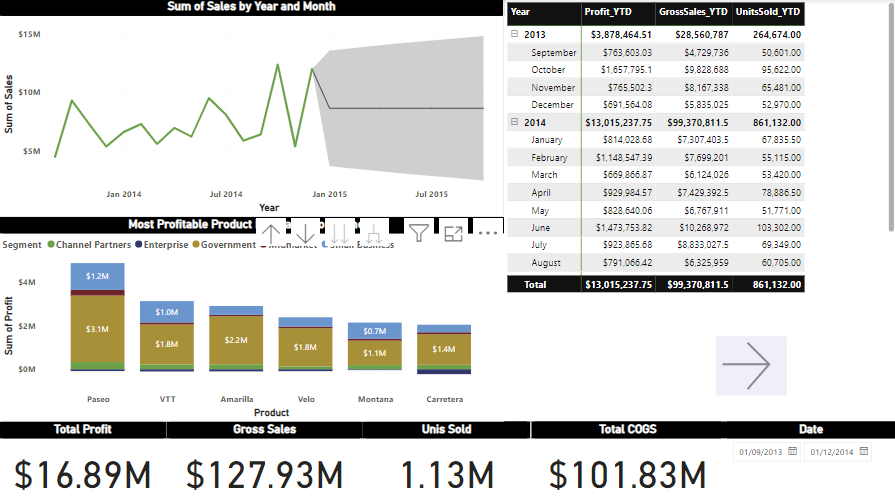

The dashboard page shown, as its layout file describes it:
{"tool":"powerbi","page":{"name":"Final Report ","canvas":[1280,720],"ordinal":0},"visuals":[{"type":"card","title":"Gross Sales","fields":{"Values":["Sum(financials.Gross Sales)"]},"box":[238.8,602.4,279.9,118],"z":0},{"type":"card","title":"Total Profit","fields":{"Values":["Sum(financials.Profit)"]},"box":[0,602.4,238.8,118],"z":1000},{"type":"card","title":"Unis Sold","fields":{"Values":["Sum(financials.Units Sold)"]},"box":[518.7,602.4,238.8,118],"z":2000},{"type":"card","title":"Total COGS","fields":{"Values":["Sum(financials.COGS)"]},"box":[757.5,602.4,274.4,118],"z":3000},{"type":"columnChart","title":"Most Profitable Product In Relation to Segment","fields":{"Category":["Products.Product "],"Y":["Sum(financials.Profit)"],"Series":["Segments.Segment"]},"box":[0,310.1,719,292.3],"z":4000},{"type":"pivotTable","fields":{"Rows":["financials.Date.Variation.Date Hierarchy.Year","financials.Date.Variation.Date Hierarchy.Month"],"Values":["financials.Profit_YTD","financials.GrossSales_YTD","financials.UnitsSold_YTD"]},"box":[719,0,561.2,422.6],"z":5000},{"type":"lineChart","fields":{"Y":["Sum(financials. Sales)"],"Category":["financials.Date.Variation.Date Hierarchy.Year","financials.Date.Variation.Date Hierarchy.Month"]},"box":[0,0,719,310.1],"z":6000},{"type":"slicer","title":"Date","fields":{"Values":["financials.Date"]},"box":[1031.9,602.4,248.4,118],"z":7000},{"type":"actionButton","box":[1020.9,480.3,100.2,83.7],"z":10000}]}

Visuals, with their boxes in screenshot pixels (x1, y1, x2, y2), scaled from the page's 1280x720 canvas onto the 895x502 screenshot:
"Gross Sales" card: x1=167, y1=420, x2=363, y2=501
"Total Profit" card: x1=0, y1=420, x2=167, y2=501
"Unis Sold" card: x1=363, y1=420, x2=530, y2=501
"Total COGS" card: x1=530, y1=420, x2=722, y2=501
"Most Profitable Product In Relation to Segment" columnChart: x1=0, y1=216, x2=503, y2=420
pivotTable - financials.Date.Variation.Date Hierarchy.Year x financials.Date.Variation.Date Hierarchy.Month: x1=503, y1=0, x2=894, y2=295
lineChart - Sum(financials. Sales) x financials.Date.Variation.Date Hierarchy.Year: x1=0, y1=0, x2=503, y2=216
"Date" slicer: x1=722, y1=420, x2=894, y2=501
actionButton: x1=714, y1=335, x2=784, y2=393
